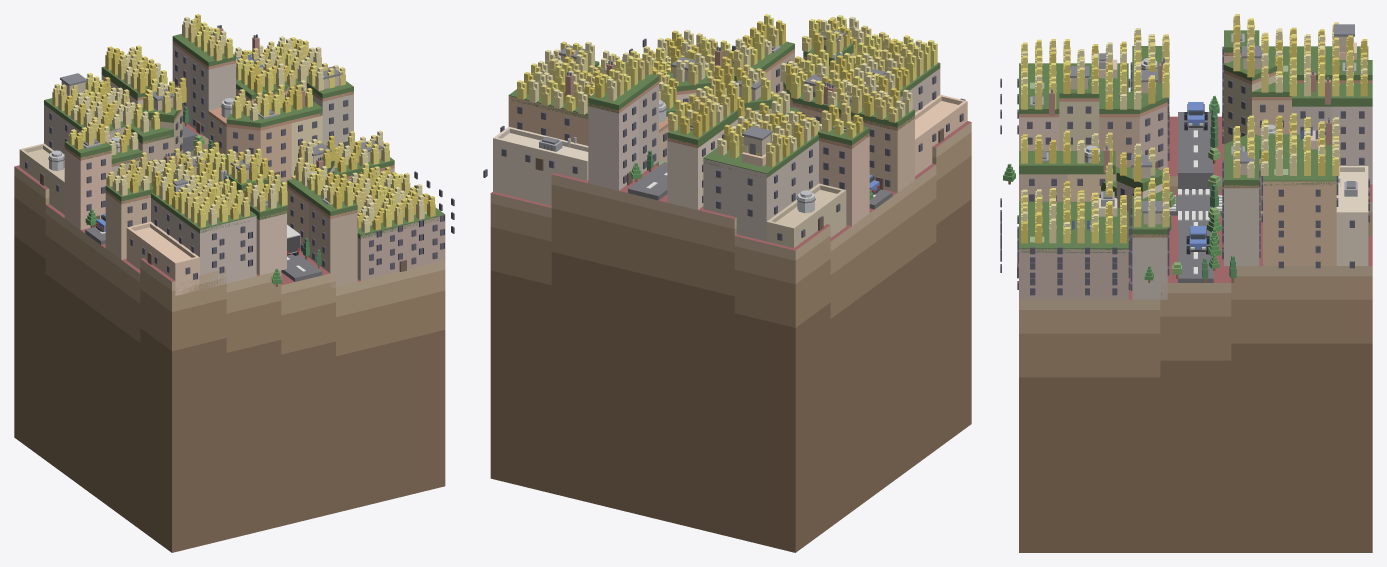
File: block_14_urbanfarm_70.glb
The picture shows the model from 3 angles, left to right: view 1: azimuth 30°, elevation 25°; view 2: azimuth 150°, elevation 25°; view 3: azimuth 270°, elevation 25°; orthographic projection. The views are drawn at different scales.
Visible parts, largest first — view 1: Patch_MidRight_b14_UF, Cerda_MidRight_b14_UF, Insets_MidRight_b14_UF, UFR_Cerda_MidRight_b14_UF, CerdaRoofProps_MidRight_b14_UF, UFR_Insets_MidRight_b14_UF, Roads_MidRight_b14_UF; view 2: Patch_MidRight_b14_UF, Insets_MidRight_b14_UF, Cerda_MidRight_b14_UF, UFR_Cerda_MidRight_b14_UF, CerdaRoofProps_MidRight_b14_UF, UFR_Insets_MidRight_b14_UF, Roads_MidRight_b14_UF; view 3: Patch_MidRight_b14_UF, Cerda_MidRight_b14_UF, Insets_MidRight_b14_UF, UFR_Cerda_MidRight_b14_UF, UFR_Insets_MidRight_b14_UF, CerdaRoofProps_MidRight_b14_UF, Roads_MidRight_b14_UF, Asset_Car.029_UF, Asset_Car.028_UF, Zebra_MidRight_b14_UF.
Part boxes in pixels (x1=…): Patch_MidRight_b14_UF: x1=14, y1=122, x2=445, y2=552; Cerda_MidRight_b14_UF: x1=64, y1=41, x2=394, y2=288; Insets_MidRight_b14_UF: x1=19, y1=67, x2=454, y2=295; UFR_Cerda_MidRight_b14_UF: x1=64, y1=34, x2=394, y2=220; CerdaRoofProps_MidRight_b14_UF: x1=48, y1=25, x2=382, y2=205; UFR_Insets_MidRight_b14_UF: x1=44, y1=76, x2=445, y2=239; Roads_MidRight_b14_UF: x1=85, y1=124, x2=322, y2=281; Patch_MidRight_b14_UF: x1=490, y1=121, x2=971, y2=552; Insets_MidRight_b14_UF: x1=483, y1=38, x2=967, y2=247; Cerda_MidRight_b14_UF: x1=588, y1=49, x2=914, y2=226; UFR_Cerda_MidRight_b14_UF: x1=587, y1=41, x2=914, y2=148; CerdaRoofProps_MidRight_b14_UF: x1=539, y1=30, x2=885, y2=213; UFR_Insets_MidRight_b14_UF: x1=508, y1=62, x2=940, y2=177; Roads_MidRight_b14_UF: x1=628, y1=162, x2=892, y2=209; Patch_MidRight_b14_UF: x1=1019, y1=116, x2=1372, y2=552; Cerda_MidRight_b14_UF: x1=1019, y1=46, x2=1372, y2=299; Insets_MidRight_b14_UF: x1=1000, y1=42, x2=1369, y2=299; UFR_Cerda_MidRight_b14_UF: x1=1019, y1=30, x2=1372, y2=237; UFR_Insets_MidRight_b14_UF: x1=1019, y1=46, x2=1368, y2=253; CerdaRoofProps_MidRight_b14_UF: x1=1030, y1=24, x2=1357, y2=231; Roads_MidRight_b14_UF: x1=1169, y1=112, x2=1221, y2=282; Asset_Car.029_UF: x1=1184, y1=102, x2=1207, y2=130; Asset_Car.028_UF: x1=1186, y1=226, x2=1209, y2=254; Zebra_MidRight_b14_UF: x1=1169, y1=189, x2=1222, y2=220.
Bounding box in the file's own units: 10 × 12.83 × 10.
